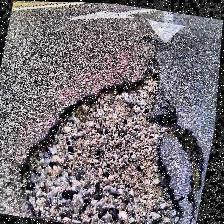pothole: (13, 50, 221, 224)
